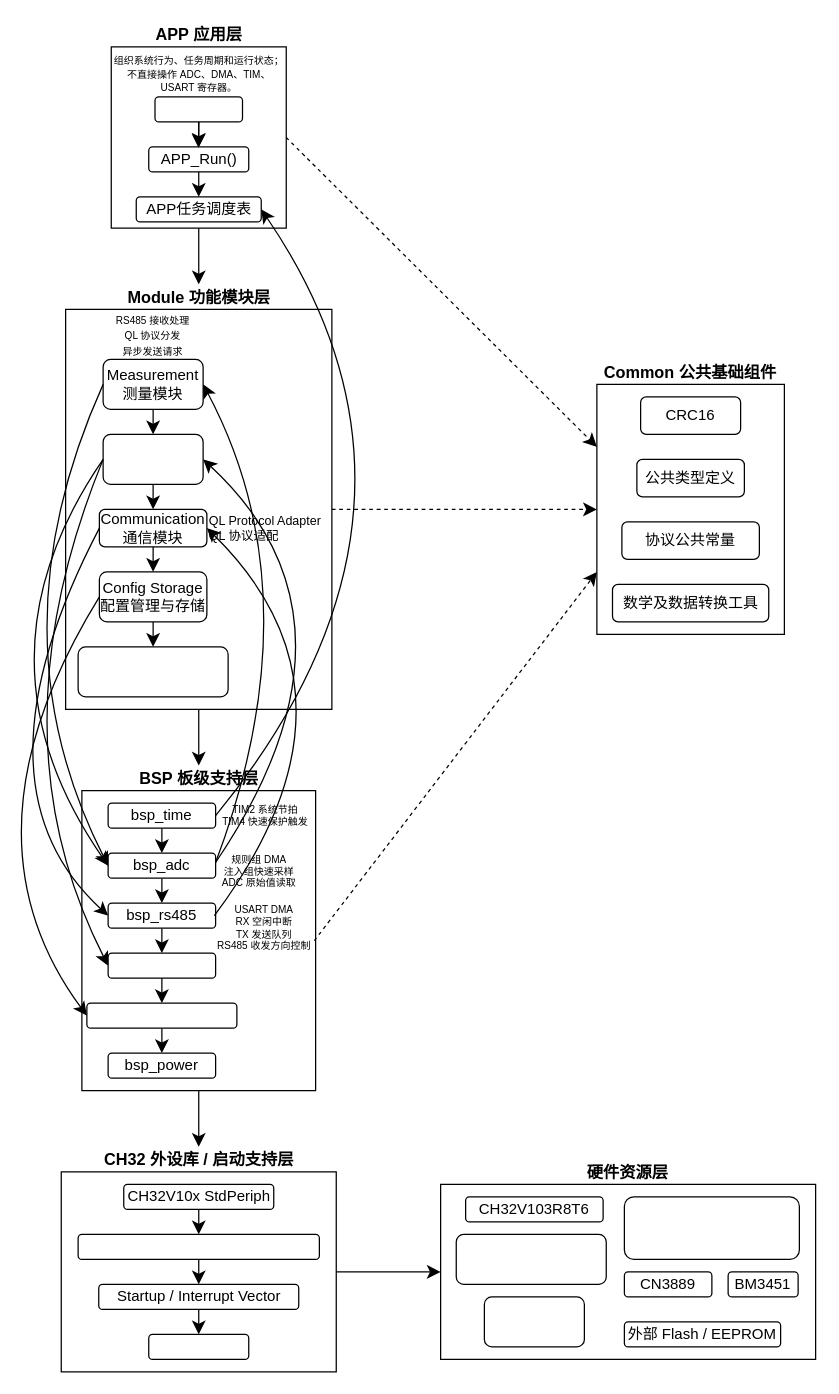
Some shapes in this 839 by 1394 pixel diagram are drawn without their labels. The box of each missing label's shape, as (x1, y1, x2, y2) in pixels:
ADC / DMA / TIM / USART / GPIO: (77, 1233, 319, 1259)
ADC 输入 PC0 / PC1 / PC2 / PC4 PA4 / PA5 / PA6 / PA7: (623, 1196, 799, 1259)
APP_Init(): (154, 96, 242, 122)
bsp_flash / BY25D80: (86, 1002, 237, 1028)
bsp_gpio: (107, 952, 216, 978)
PA2 / PA3 调试串口: (483, 1296, 584, 1347)
PA9 / PA10 上位机网关 RS485: (455, 1233, 606, 1284)
Protection 保护模块: (102, 433, 203, 484)
Temperature Sensor 温度处理模块: (77, 646, 228, 697)
中断入口: (148, 1333, 249, 1359)
